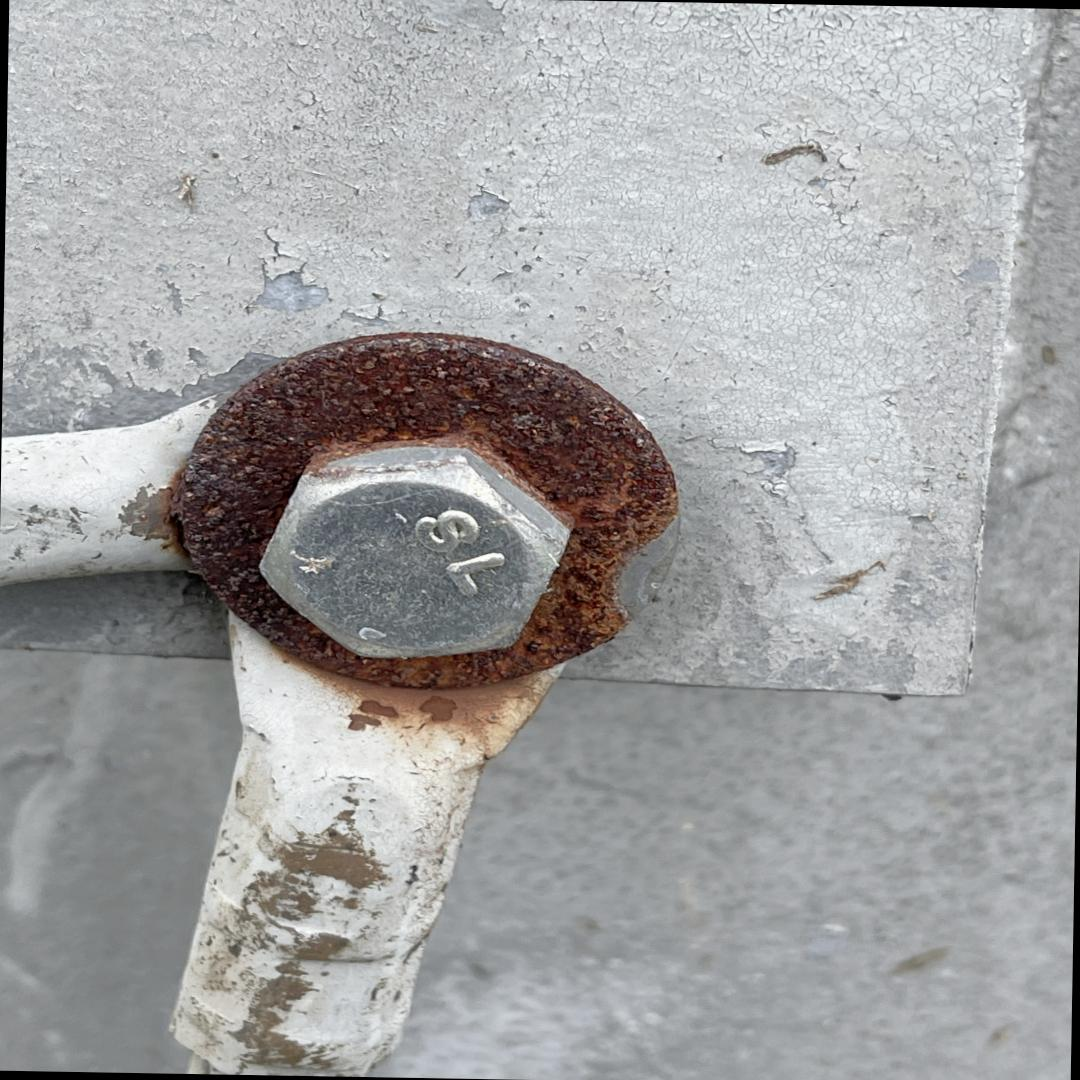Metal corroido: (152, 333, 681, 738)
Tornillo sin corrosion: (259, 452, 572, 660)
